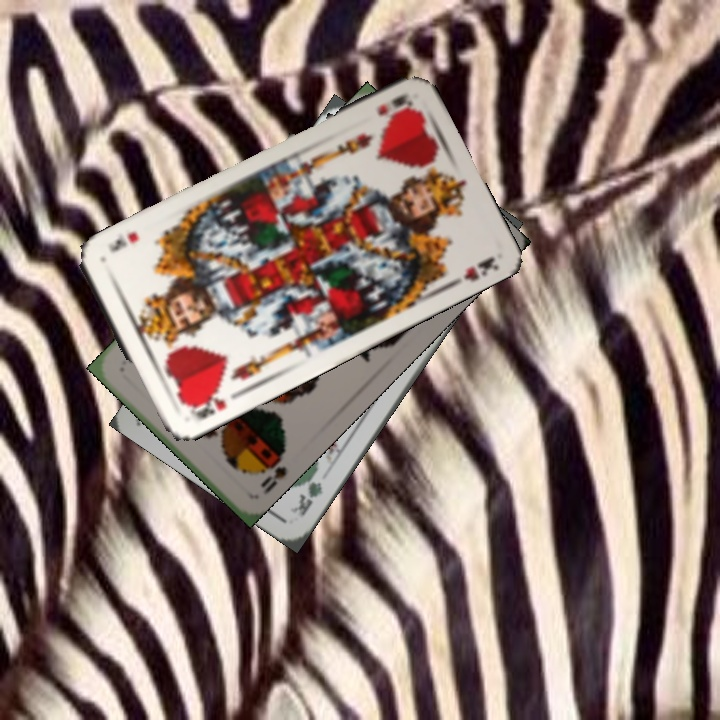GK: (286, 464, 326, 519)
HK: (183, 387, 230, 422), (373, 90, 415, 119)
SO: (256, 443, 290, 498)
